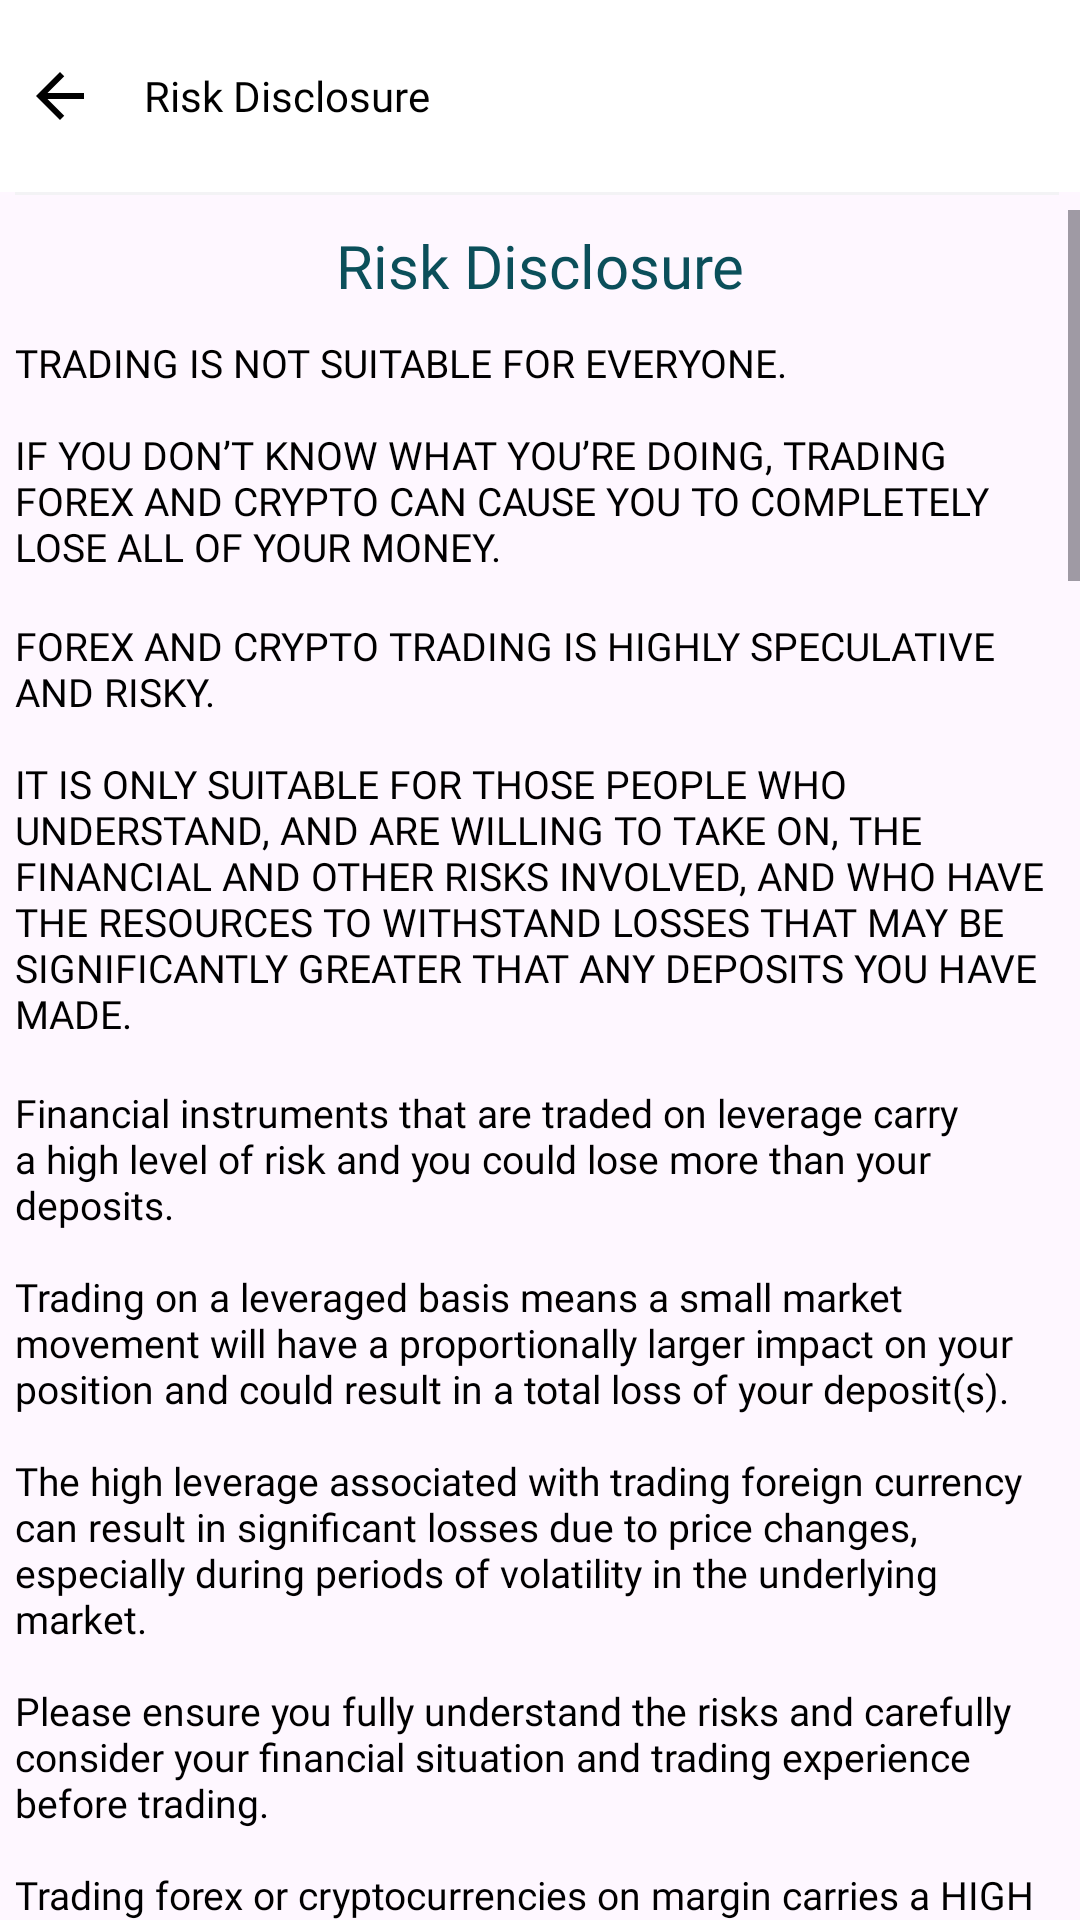

Point at icon controls on the screen. Image size 1080 × 1920, points as (x,y).
arrow back: (60,96)
